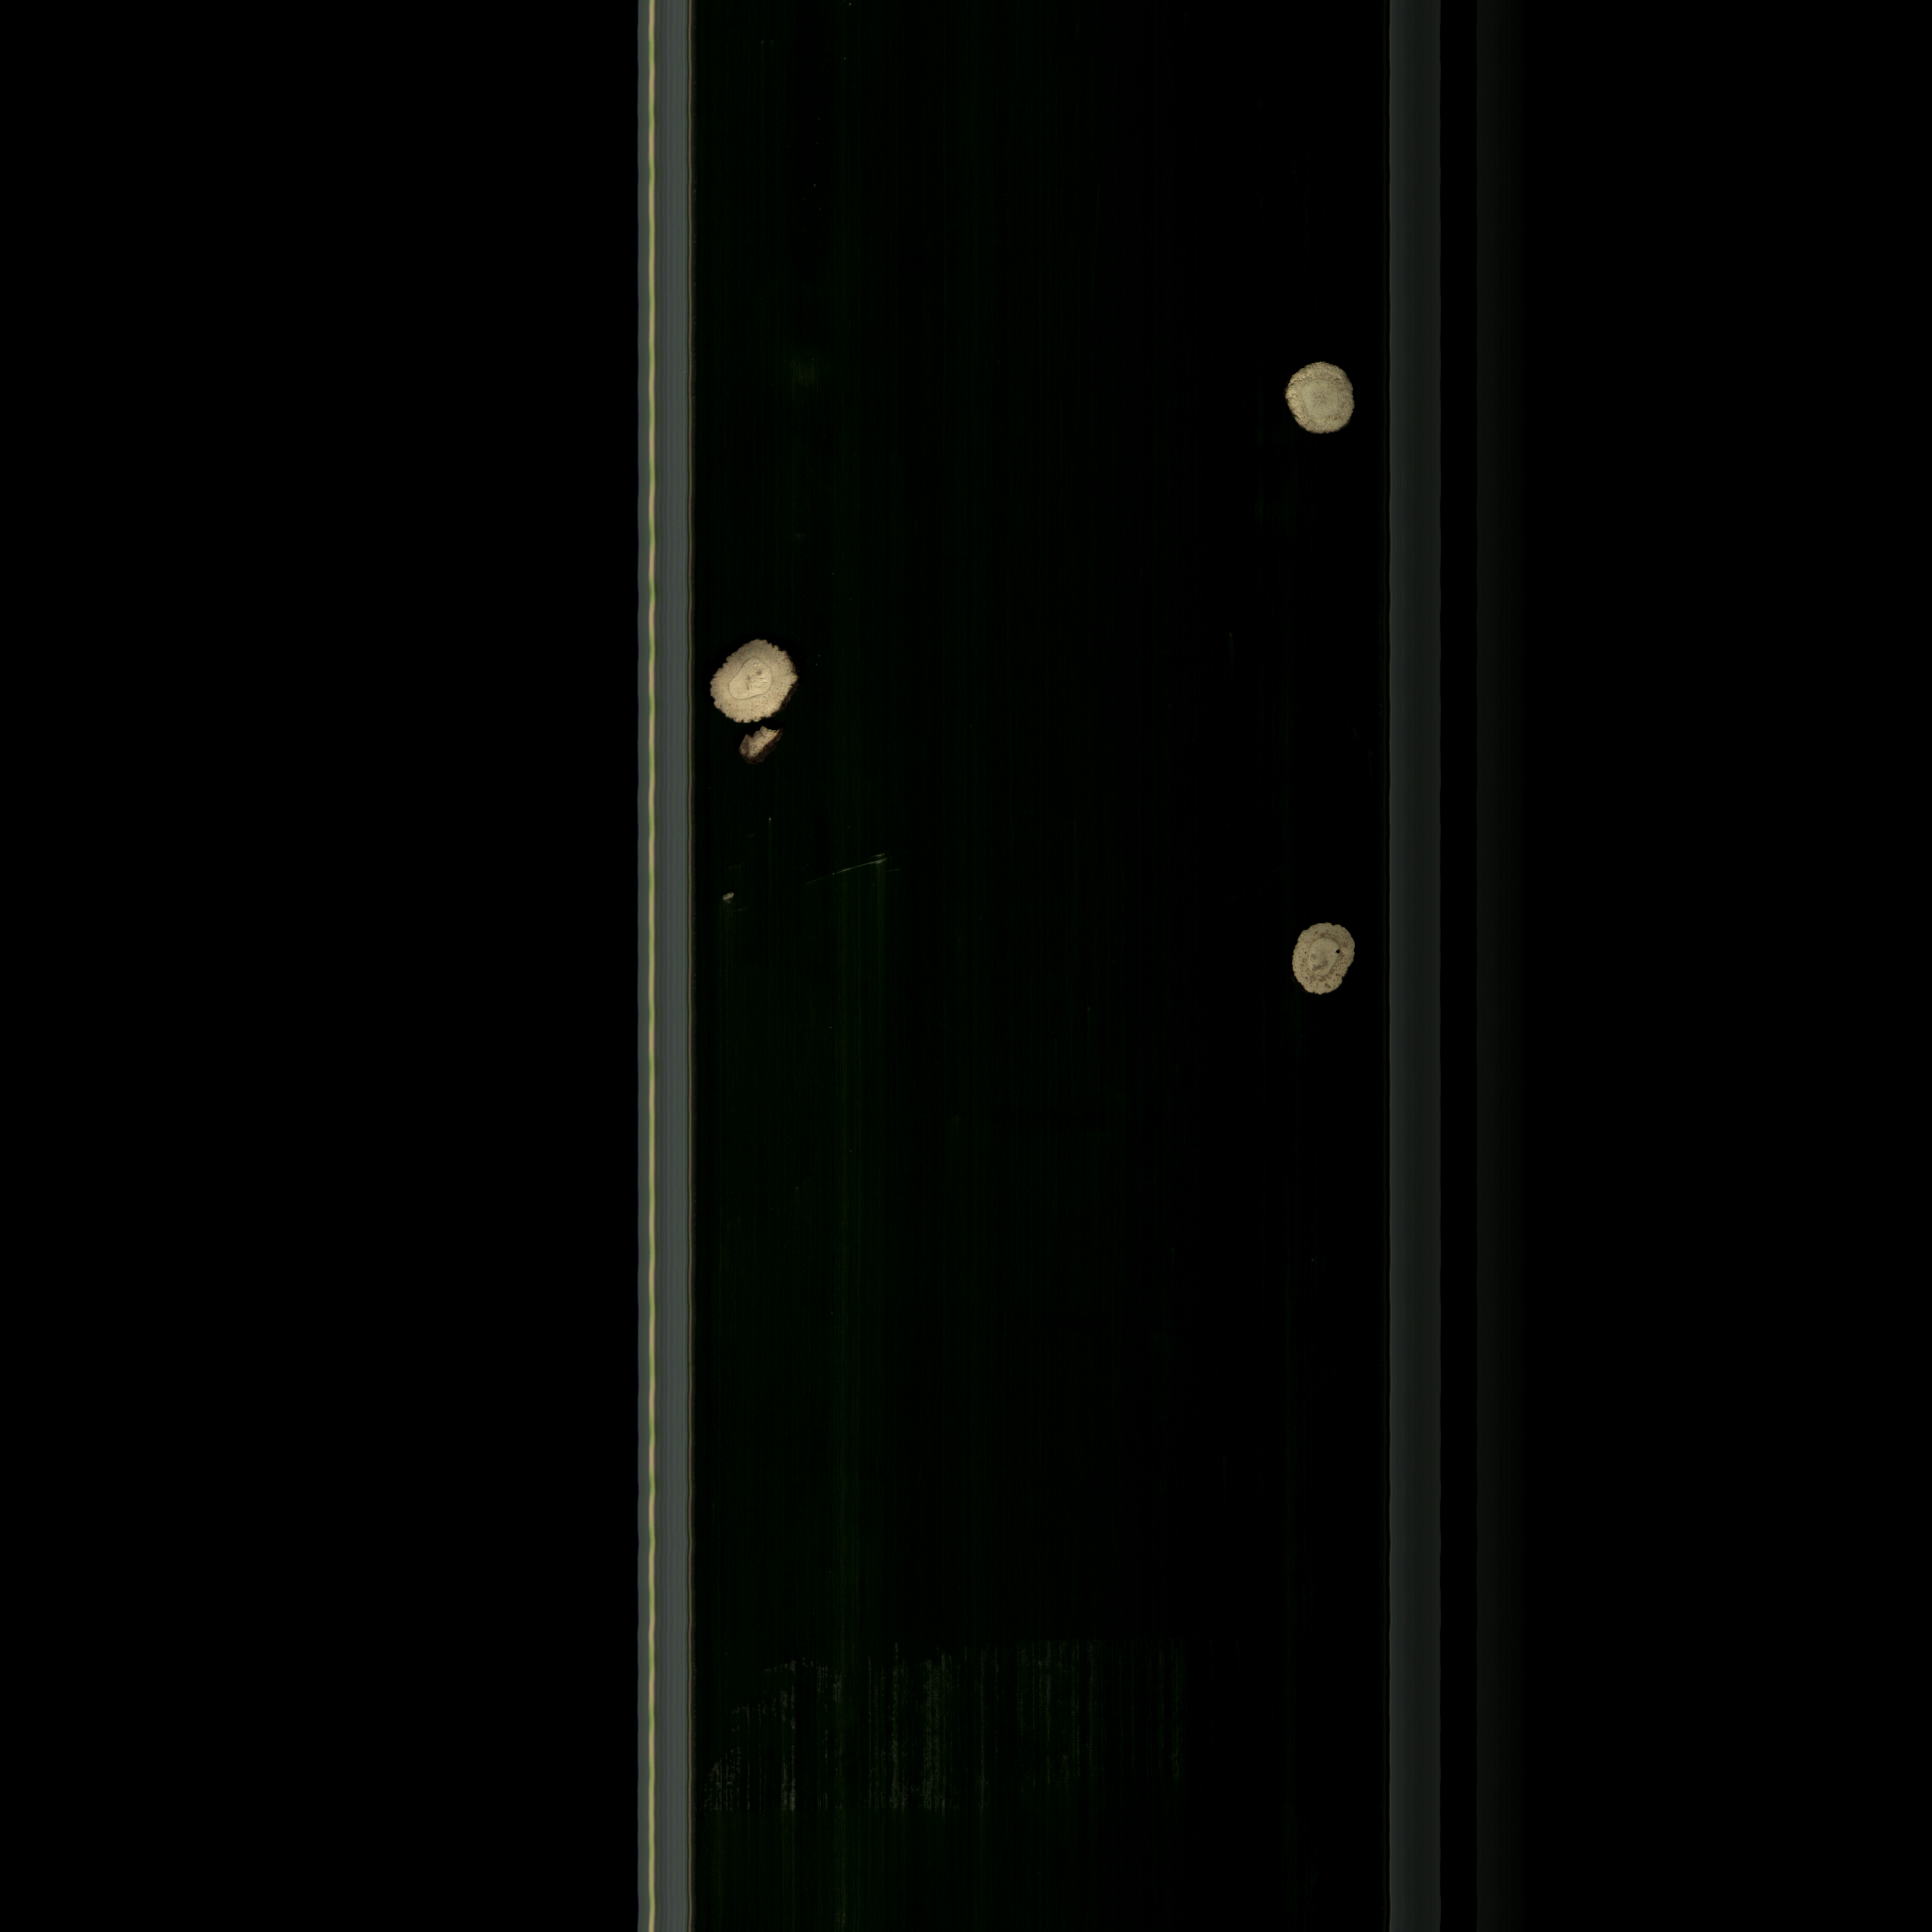distortion: (702, 625, 800, 727)
dreg: (731, 722, 787, 768)
hole: (1284, 918, 1361, 1010)
